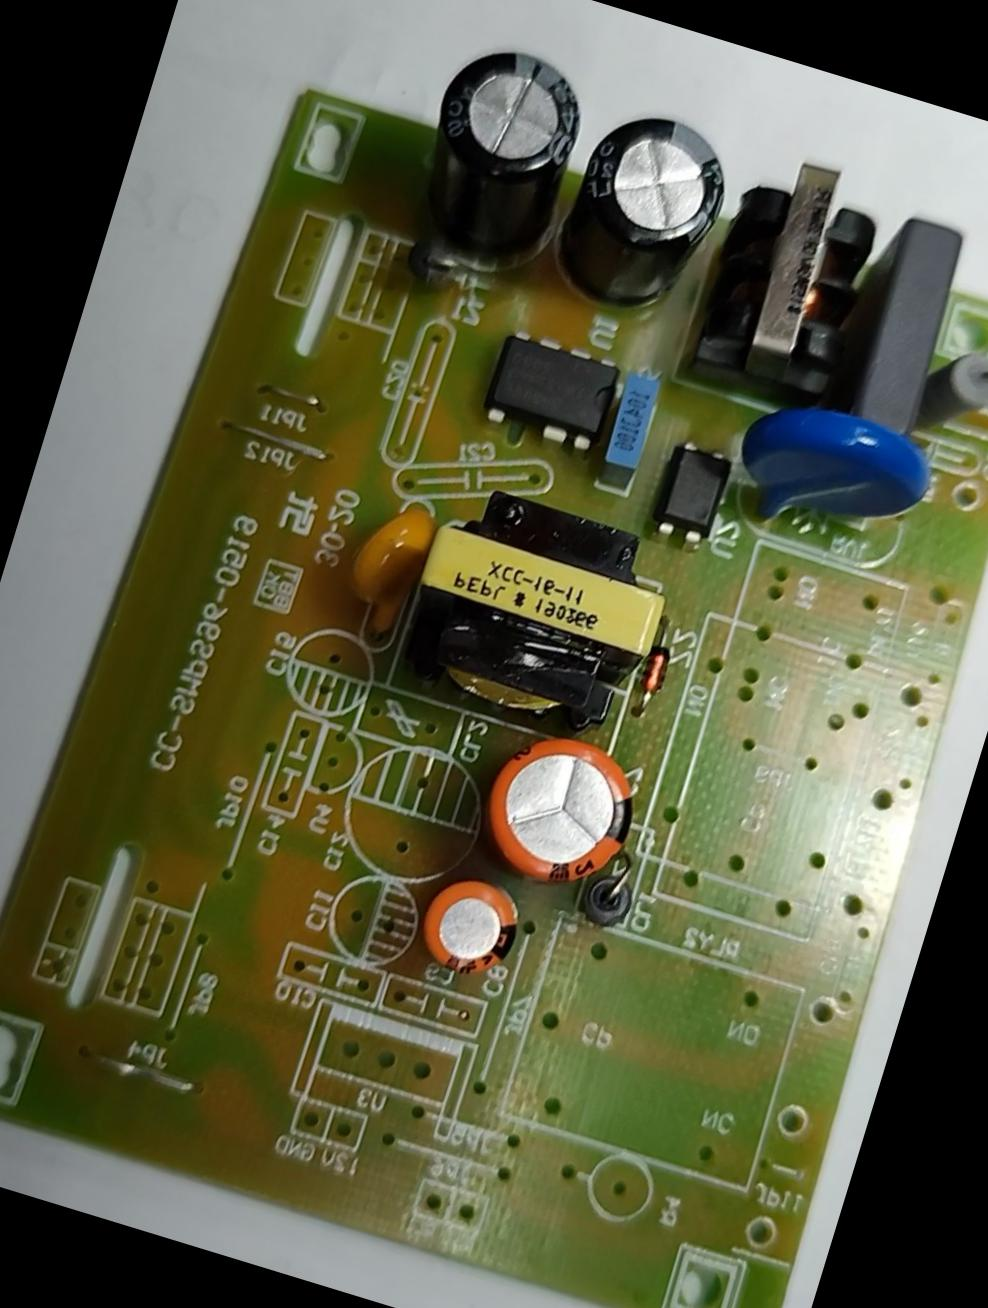Cap1: (468, 715, 653, 908)
Cap2: (410, 863, 529, 991)
Cap3: (545, 96, 740, 335)
Cap4: (400, 35, 600, 287)
MOSFET: (476, 322, 630, 460)
Mov: (715, 388, 944, 572)
Resistor: (920, 339, 987, 449)
Transformer: (382, 471, 690, 758), (682, 139, 903, 420)
